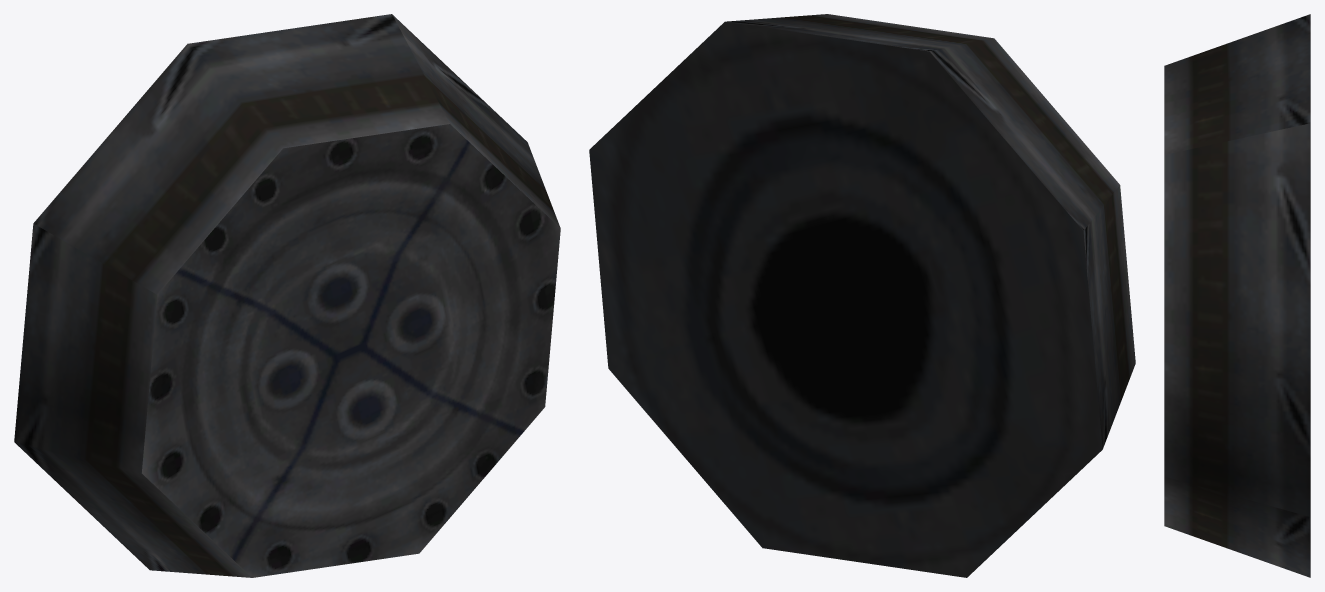
The model's file is t6_wpn_bouncing_betty_world_LOD3.obj.
3 renders of one model, left to right at view 1: azimuth 30°, elevation 25°; view 2: azimuth 150°, elevation 25°; view 3: azimuth 270°, elevation 25°, orthographic. The views are drawn at different scales.
Parts seen in each view (by area): view 1: mtl_t6_wpn_bouncing_betty; view 2: mtl_t6_wpn_bouncing_betty; view 3: mtl_t6_wpn_bouncing_betty.
Boxes of the visible parts, x1,y1,x2,y2 form: mtl_t6_wpn_bouncing_betty: [14, 14, 560, 577]; mtl_t6_wpn_bouncing_betty: [589, 14, 1135, 577]; mtl_t6_wpn_bouncing_betty: [1164, 14, 1310, 577].
Size of the model in its own units: 31.3 by 31.3 by 8.49.
